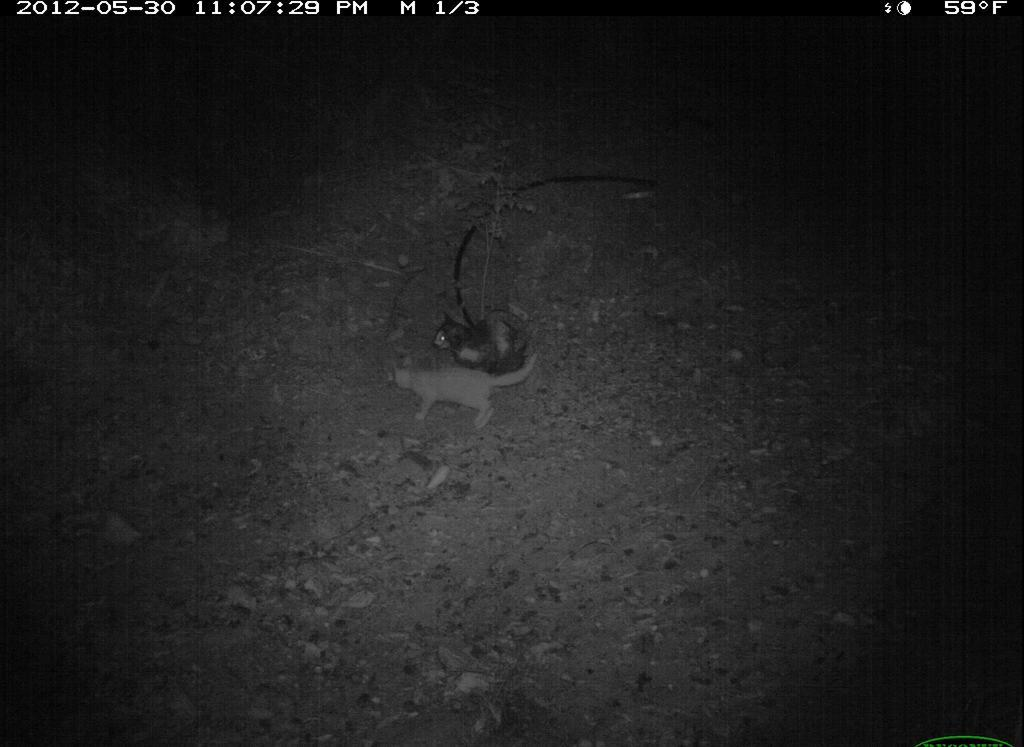cat: (377, 354, 547, 436), (427, 310, 564, 376)
